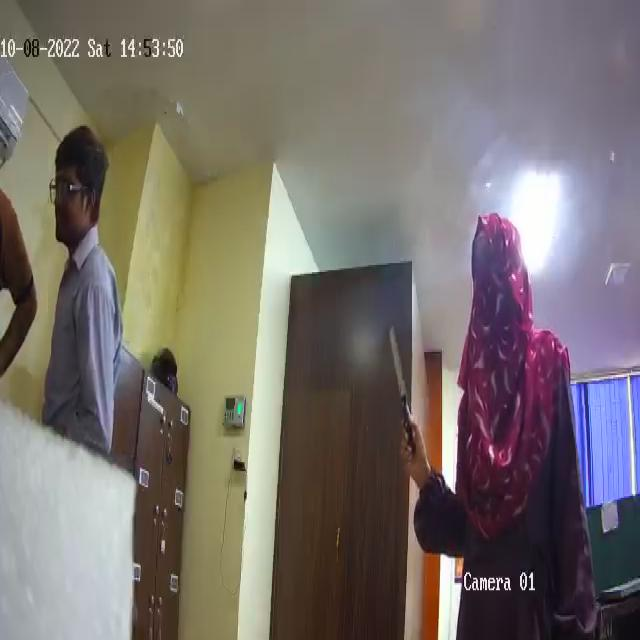Knife: (384, 326, 418, 454)
